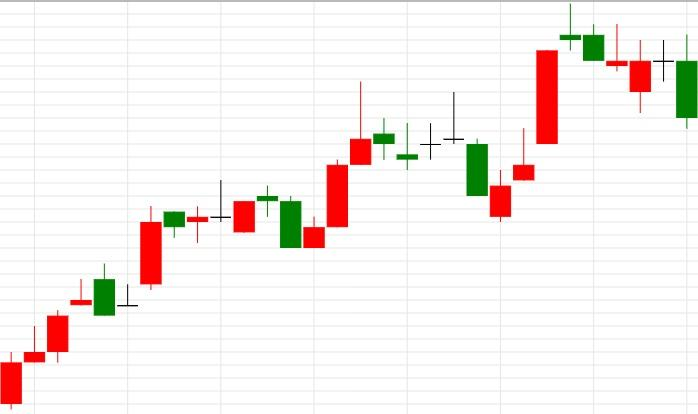evening_star_fall: (490, 3, 604, 223), (140, 180, 301, 291)
